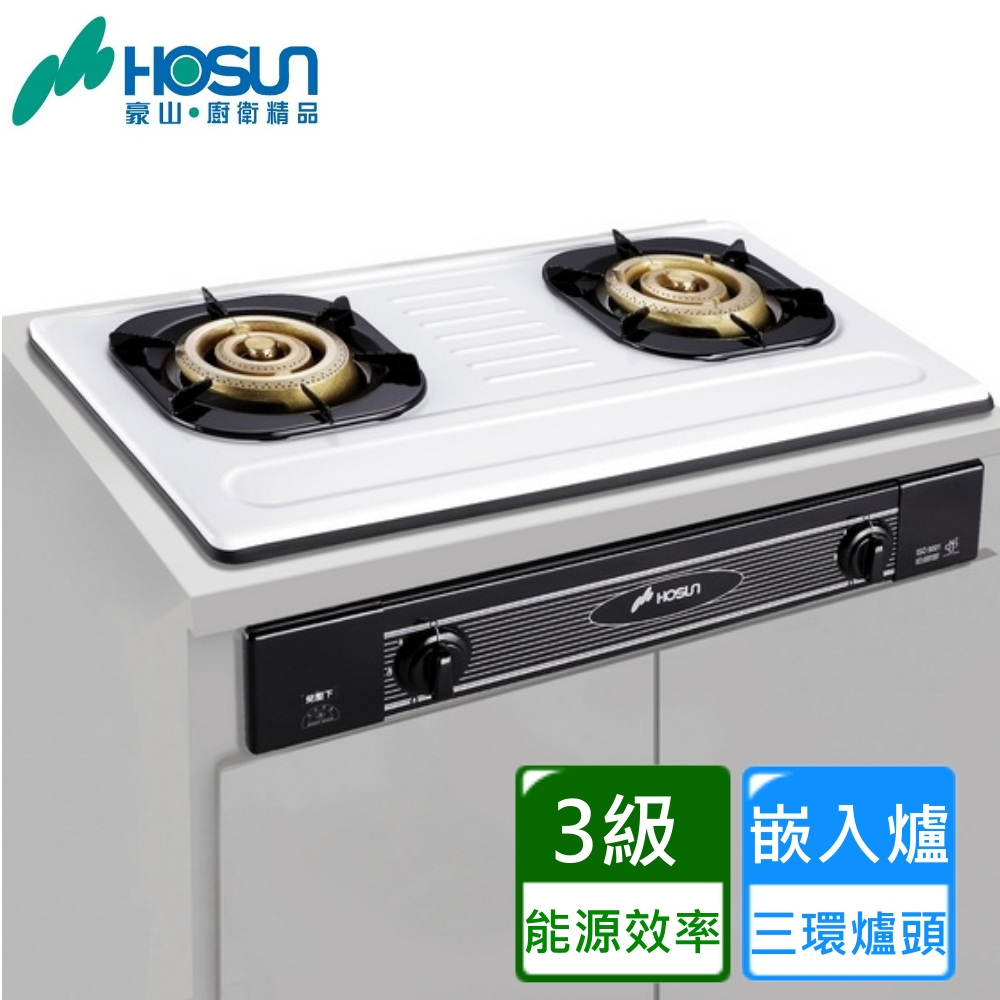gasoven: (23, 202, 994, 760)
